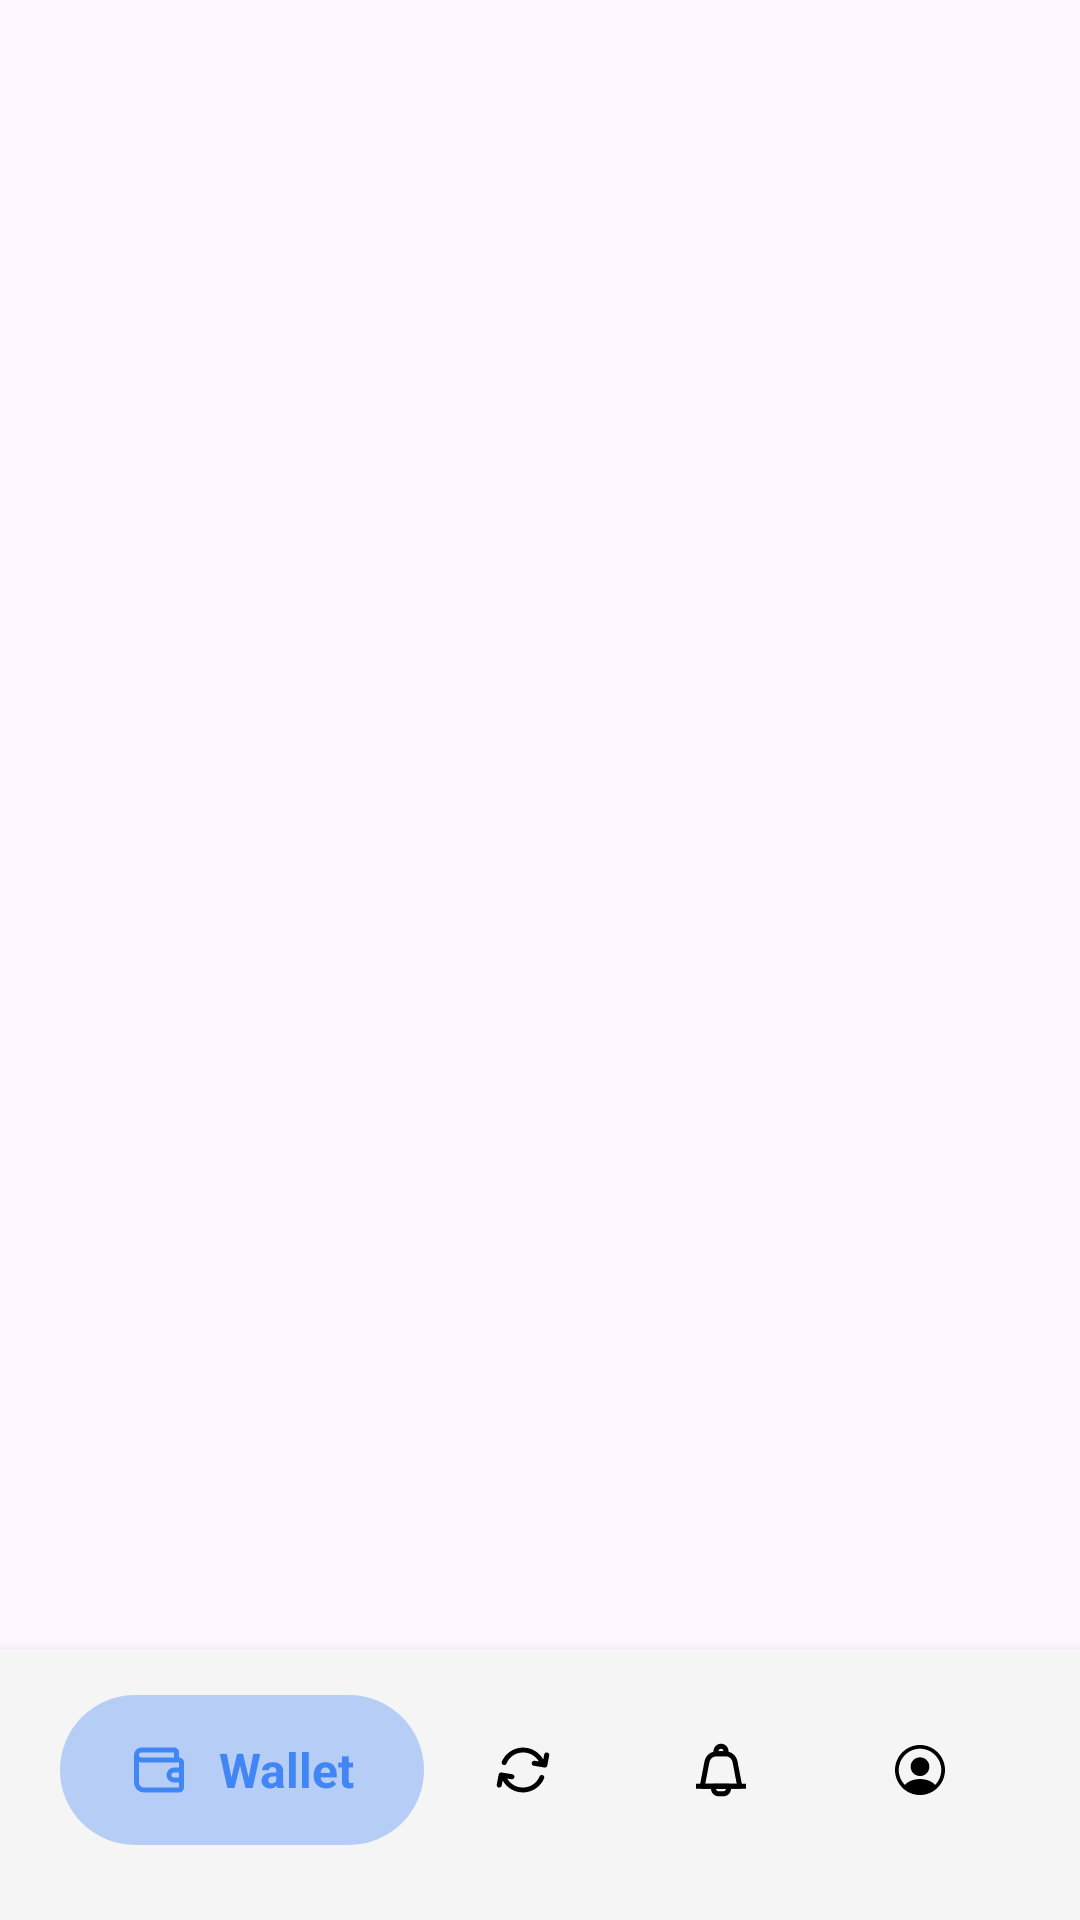

Where to tap for icons on this 1080px×1920px app screen, as [x,y]:
notifications: [721,1770]
profile: [920,1770]
swap: [523,1770]
